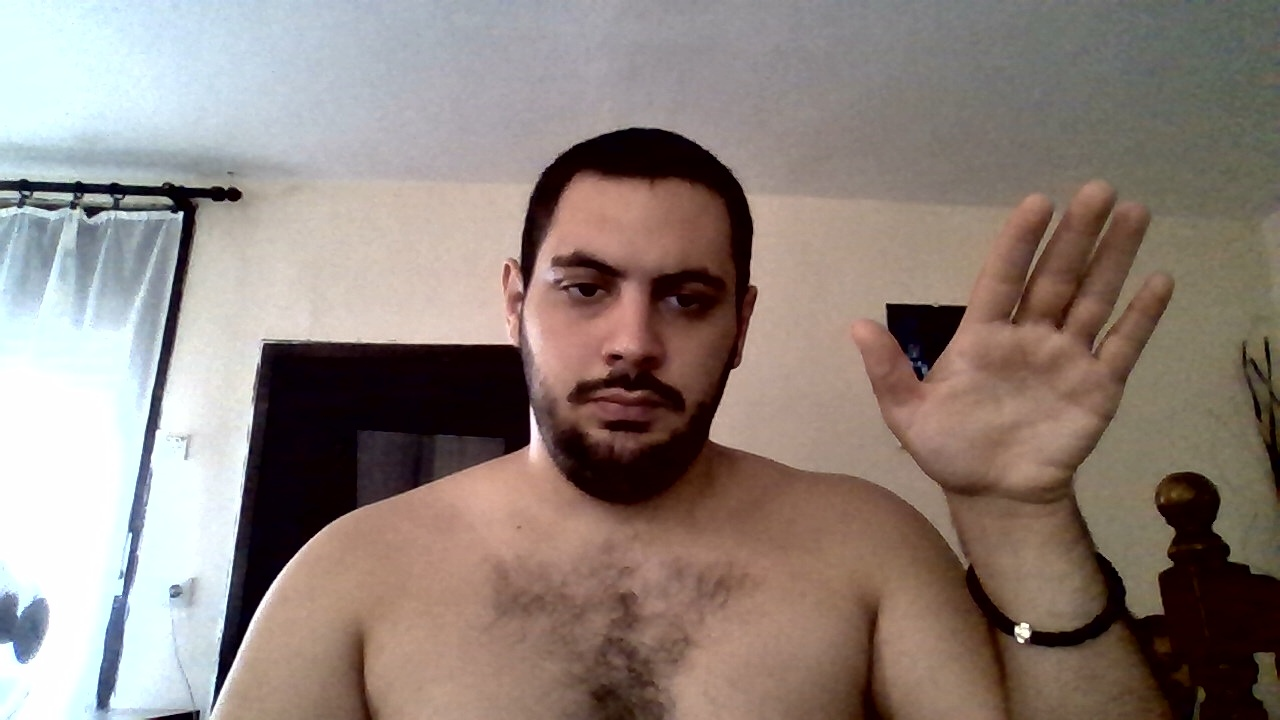palm: (850, 173, 1176, 493)
